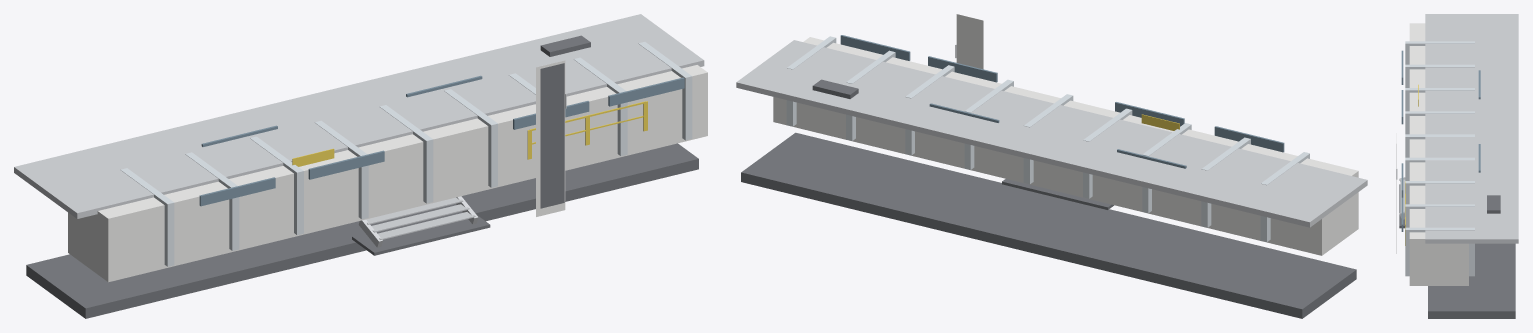
Rendered from office_cabin.glb.
The picture shows the model from 3 angles, left to right: view 1: azimuth 30°, elevation 25°; view 2: azimuth 150°, elevation 25°; view 3: azimuth 270°, elevation 25°; orthographic projection. The views are drawn at different scales.
Visible parts, largest first — view 1: site-office-cabin, door-office/charcoal, door-office/white; view 2: site-office-cabin, door-office/white; view 3: site-office-cabin, door-office/white.
Part boxes in pixels (bbox=[...]): site-office-cabin: bbox=[14, 14, 707, 318]; door-office/charcoal: bbox=[540, 63, 564, 208]; door-office/white: bbox=[536, 60, 565, 216]; site-office-cabin: bbox=[736, 35, 1367, 318]; door-office/white: bbox=[956, 14, 983, 69]; site-office-cabin: bbox=[1399, 14, 1518, 318]; door-office/white: bbox=[1396, 133, 1396, 253].
Bounding box in the file's own units: 602913 × 149211 × 138270.
